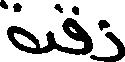X: (0, 0, 49, 58), (65, 1, 91, 61), (107, 17, 124, 61)
